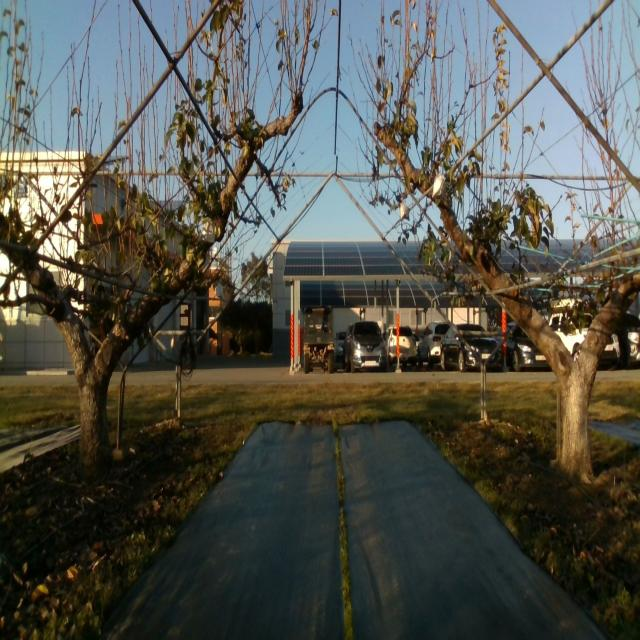pearbags: (432, 166, 447, 200), (198, 218, 215, 244)
